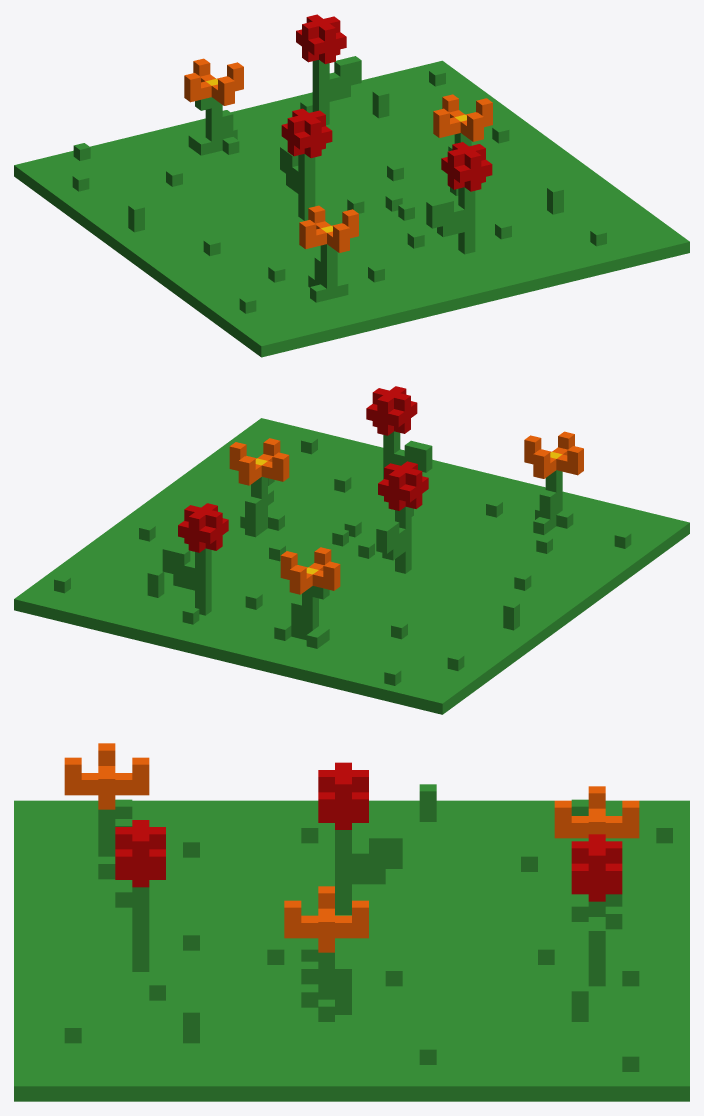
The model's file is flores_00.fbx.
3 renders of one model, top to bottom at view 1: azimuth 30°, elevation 25°; view 2: azimuth 150°, elevation 25°; view 3: azimuth 270°, elevation 25°, orthographic. The views are drawn at different scales.
Visible parts, largest first — view 1: flores_00; view 2: flores_00; view 3: flores_00.
Boxes of the visible parts, <box> form: flores_00: <box>14,14,689,357</box>; flores_00: <box>14,386,689,714</box>; flores_00: <box>14,743,689,1101</box>.
Bounding box in the file's own units: 400 × 100 × 400.
1 material, 1 textured.
